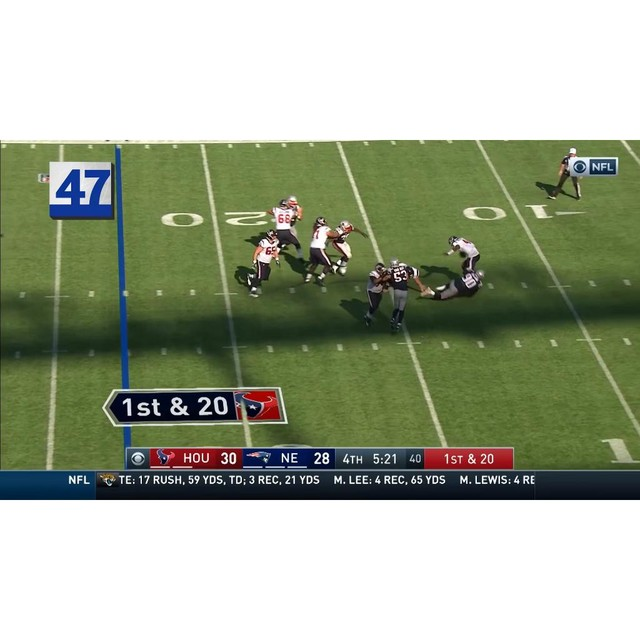american-football-player: (384, 258, 424, 333), (267, 198, 305, 264), (303, 216, 338, 287), (246, 229, 281, 297), (330, 220, 368, 276), (424, 268, 485, 300), (362, 262, 392, 327), (548, 146, 583, 201), (442, 235, 482, 277)
